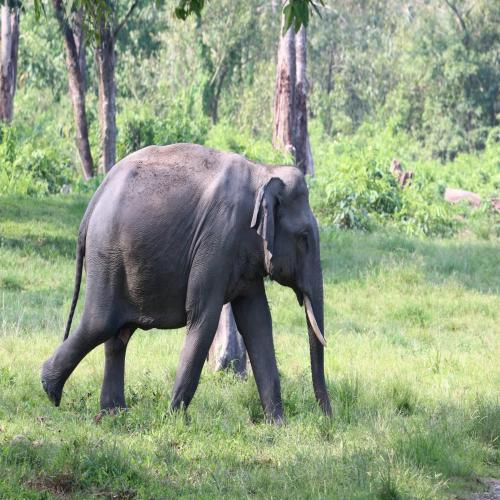asian_elephant-endangered: (41, 141, 334, 422)
